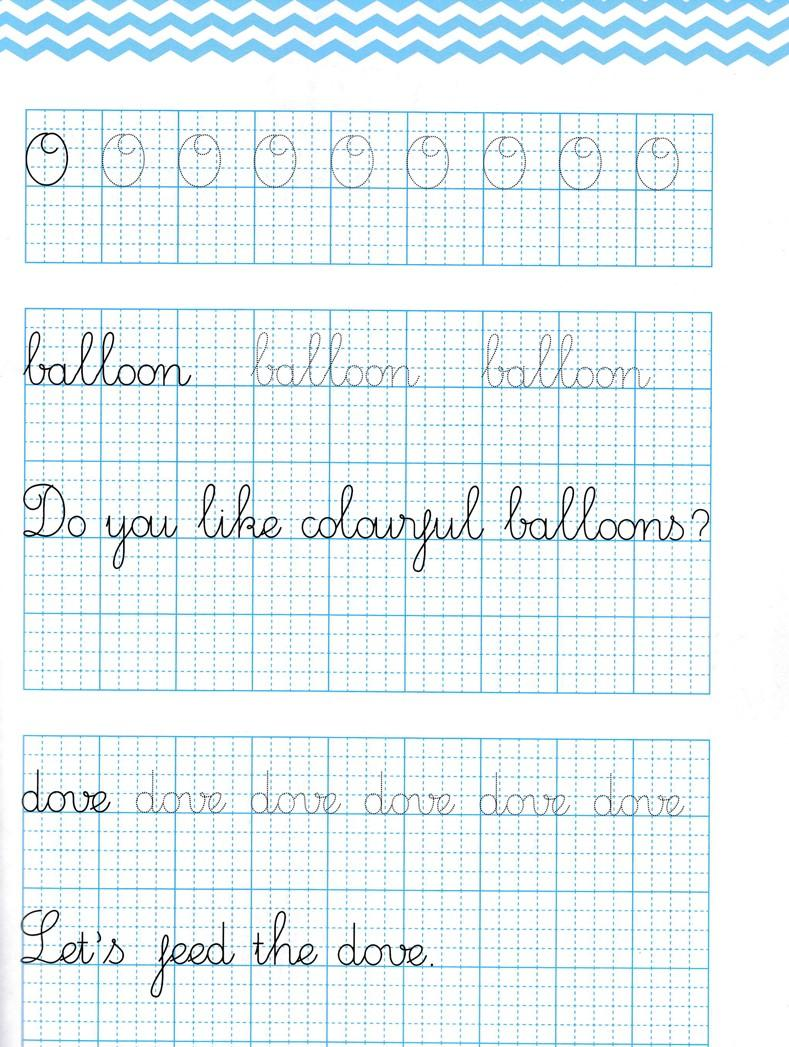text: (19, 476, 713, 579), (20, 764, 686, 821), (19, 323, 196, 391), (247, 326, 423, 391), (479, 329, 654, 394), (551, 131, 603, 194), (631, 130, 681, 194), (174, 130, 226, 189), (96, 130, 147, 190), (250, 129, 299, 189), (480, 130, 529, 190), (403, 131, 450, 193), (327, 131, 376, 190), (23, 129, 71, 189)
